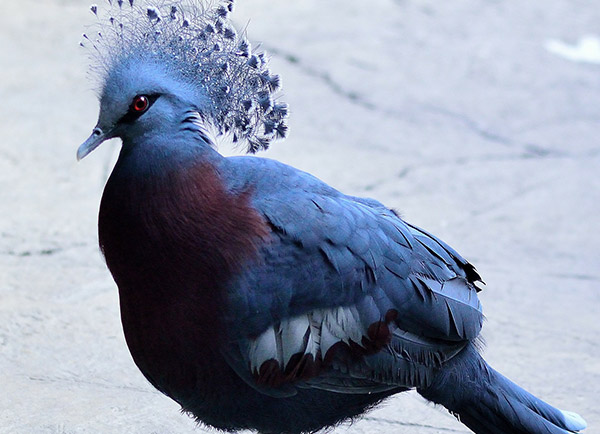pheasant: (85, 34, 504, 414)
